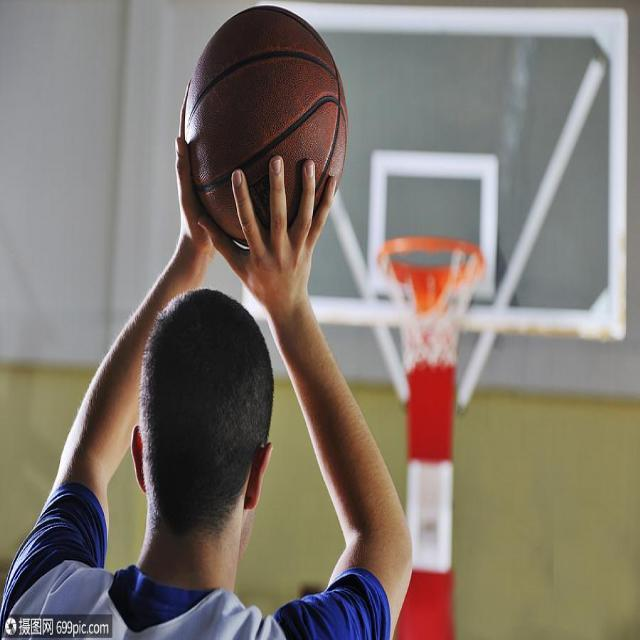rim: (182, 3, 346, 244)
